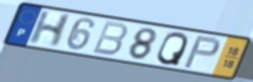6: (65, 17, 96, 52)
8: (127, 27, 159, 61)
B: (90, 20, 130, 58)
H: (26, 10, 74, 49)
P: (181, 35, 222, 70)
Q: (155, 31, 190, 68)
